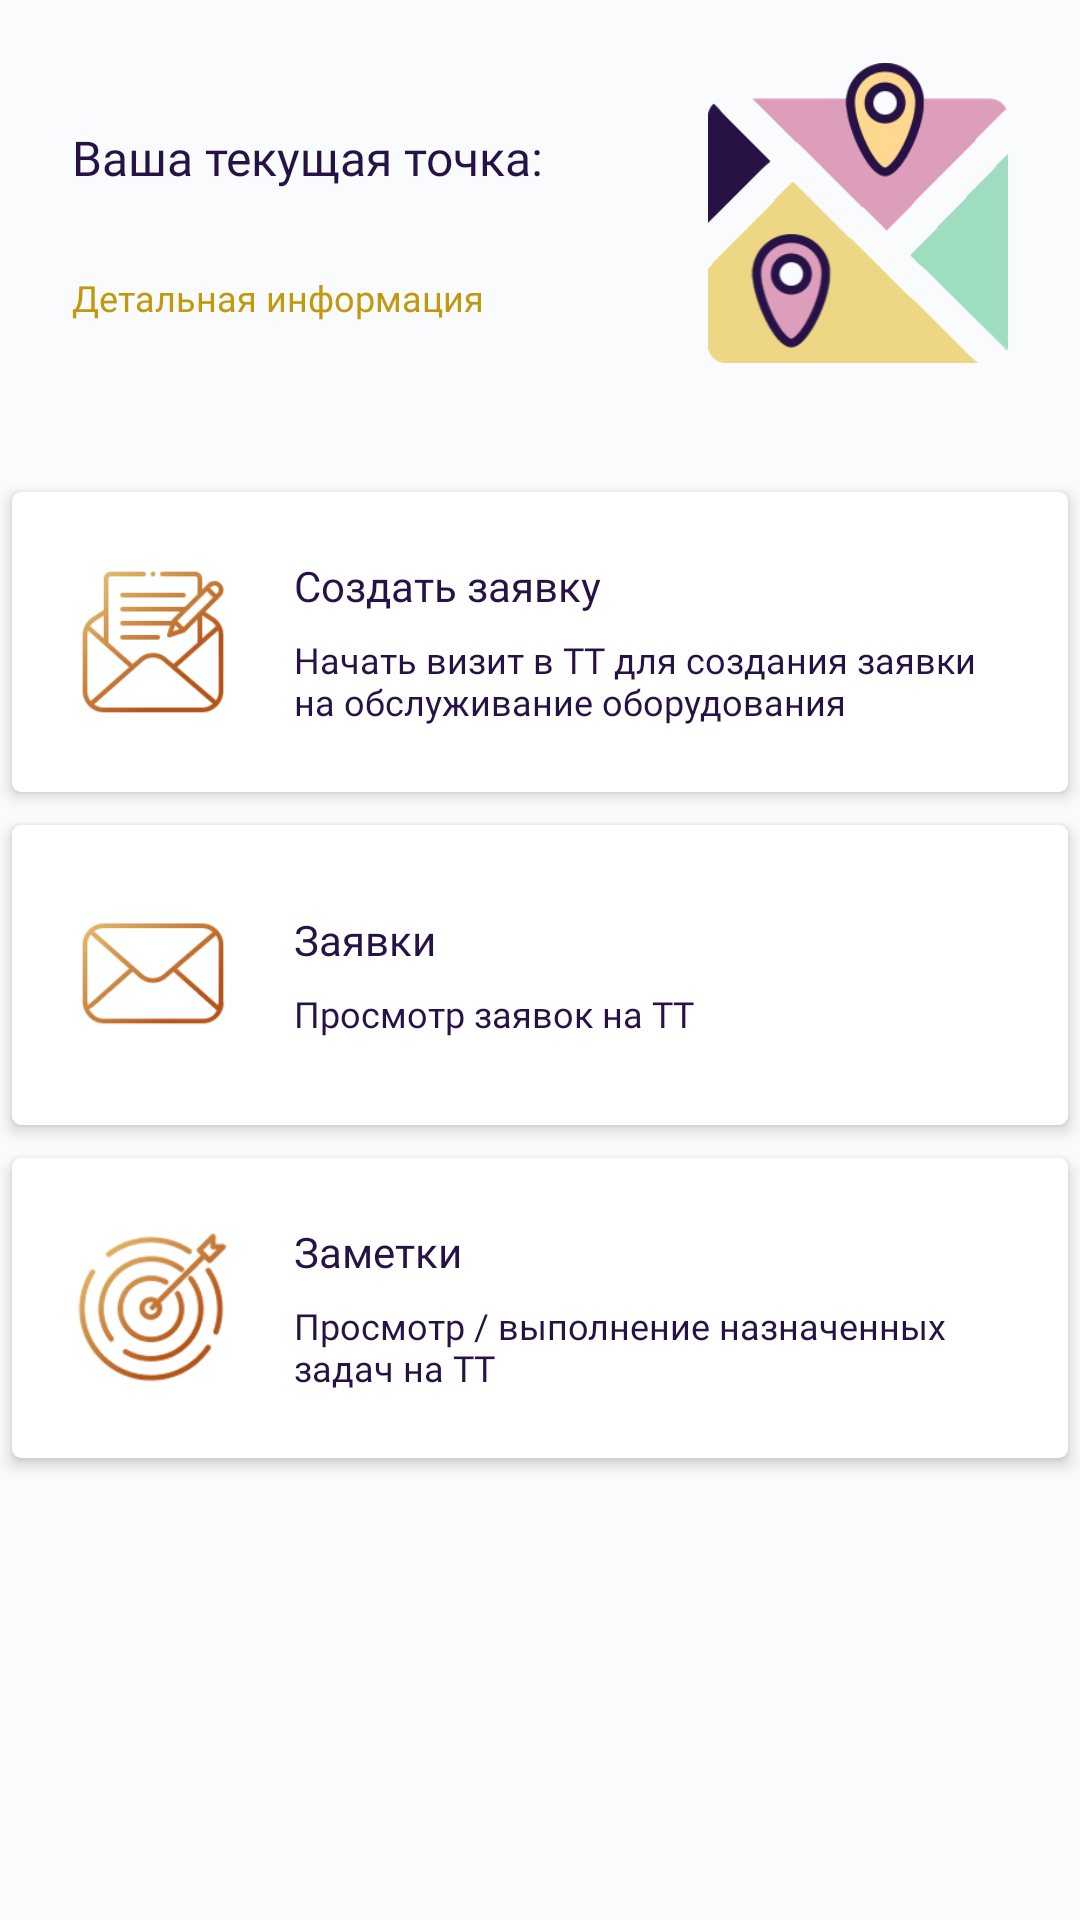

Named icons in this screenshot (1080x1920) and their bounding boxes, {"x1": x1, "y1": y1, "x2": x2, "y2": y2}:
create request: {"x1": 82, "y1": 571, "x2": 224, "y2": 713}
maps abstract: {"x1": 708, "y1": 63, "x2": 1008, "y2": 363}
requests: {"x1": 82, "y1": 923, "x2": 225, "y2": 1024}
target: {"x1": 78, "y1": 1233, "x2": 227, "y2": 1382}
